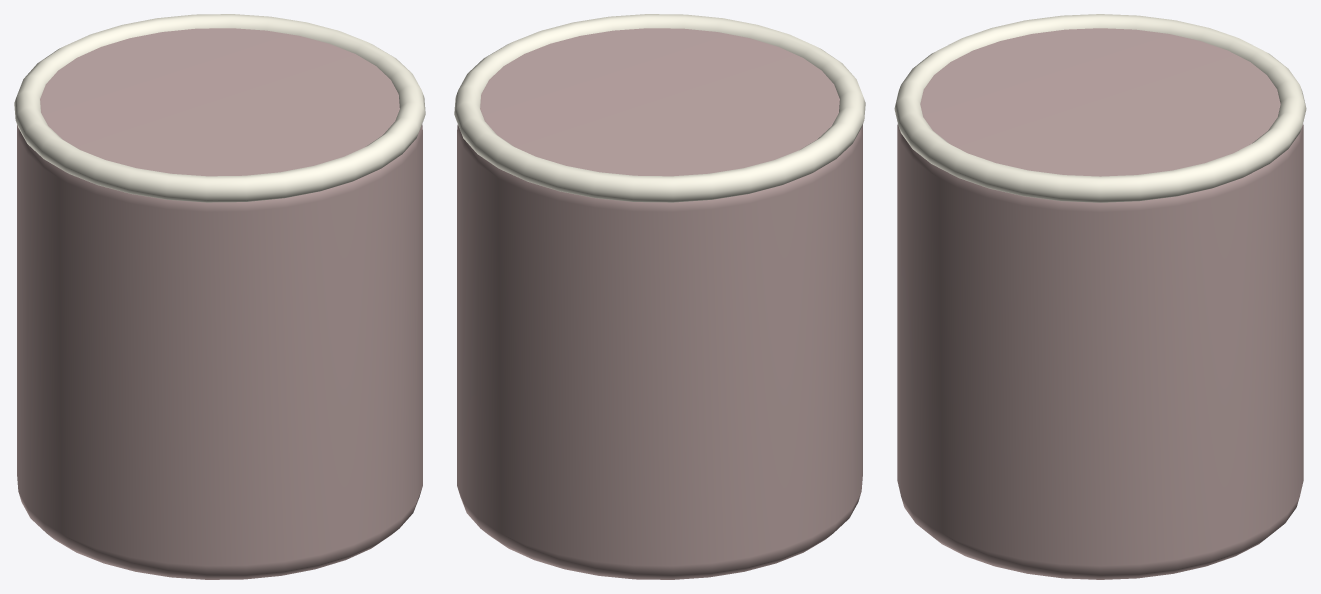
Rendered from officeTrashEmpty.glb.
3 renders of one model, left to right at view 1: azimuth 30°, elevation 25°; view 2: azimuth 150°, elevation 25°; view 3: azimuth 270°, elevation 25°, orthographic.
Visible parts, largest first — view 1: Bin, Bin rim; view 2: Bin, Bin rim; view 3: Bin, Bin rim.
Part boxes in pixels (x1,y1,x2,y2): Bin: (17, 28, 422, 579); Bin rim: (14, 14, 425, 202); Bin: (457, 28, 862, 579); Bin rim: (454, 14, 865, 202); Bin: (897, 28, 1303, 579); Bin rim: (894, 14, 1306, 202).
Bounding box in the file's own units: 0.75 × 0.8138 × 0.75.
